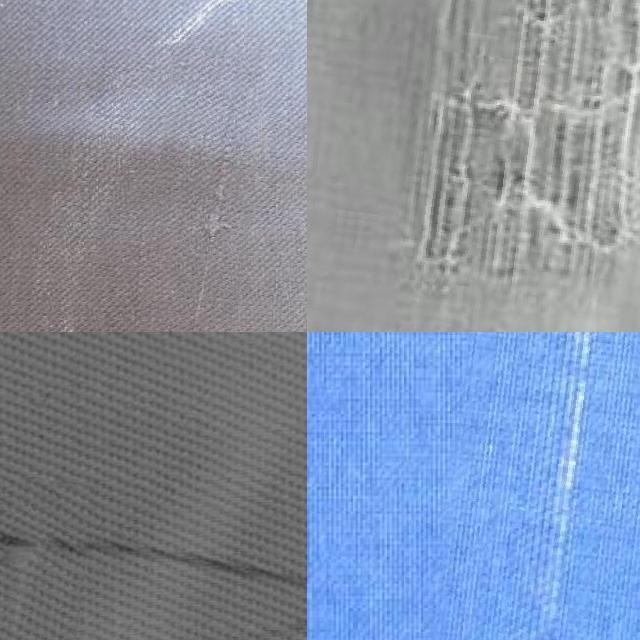stains: (307, 0, 640, 332), (436, 332, 640, 640), (121, 47, 251, 332)
